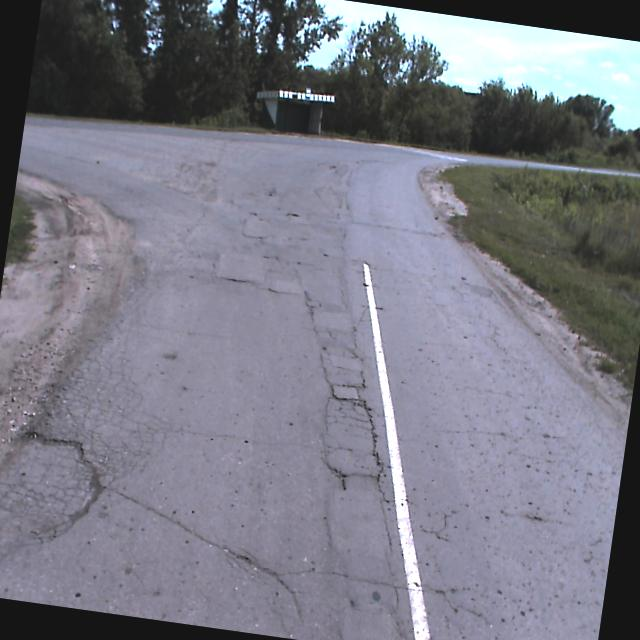road: (0, 116, 640, 640)
